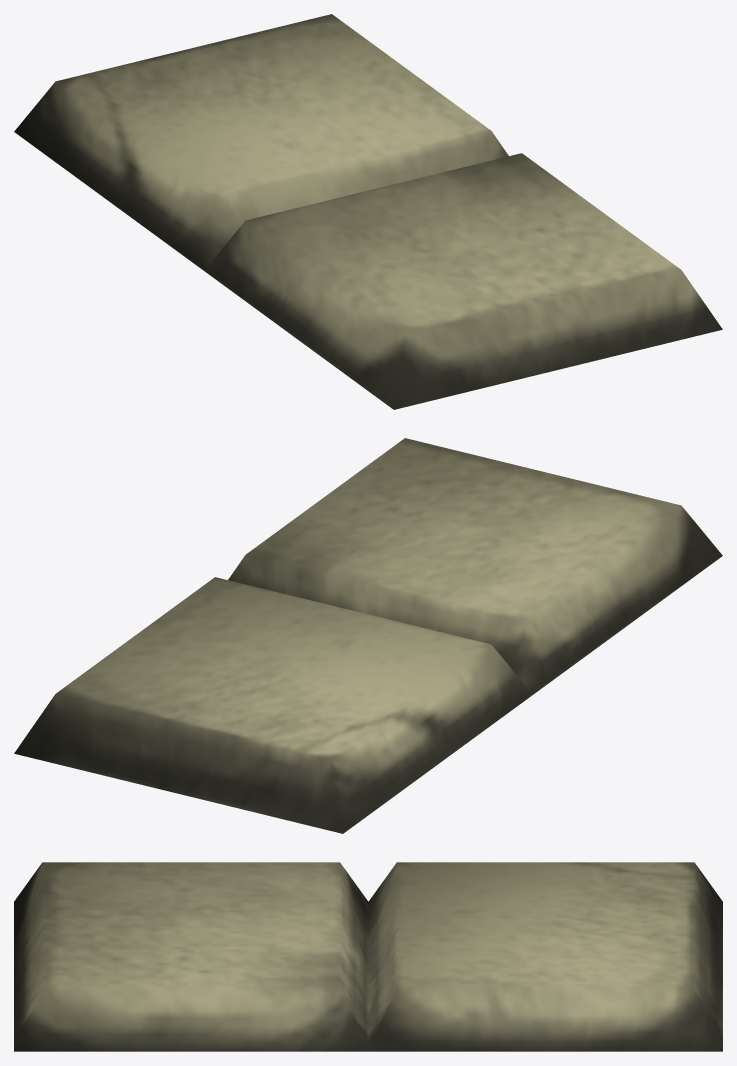
File: 1x2blocks2.FBX
The picture shows the model from 3 angles, top to bottom: view 1: azimuth 30°, elevation 25°; view 2: azimuth 150°, elevation 25°; view 3: azimuth 270°, elevation 25°; orthographic projection. The views are drawn at different scales.
Visible parts, largest first — view 1: Object023; view 2: Object023; view 3: Object023.
Boxes of the visible parts, <box> form: Object023: <box>14,14,722,409</box>; Object023: <box>14,438,722,833</box>; Object023: <box>14,862,722,1051</box>.
Size of the model in its own units: 6.25 by 1 by 12.5.
